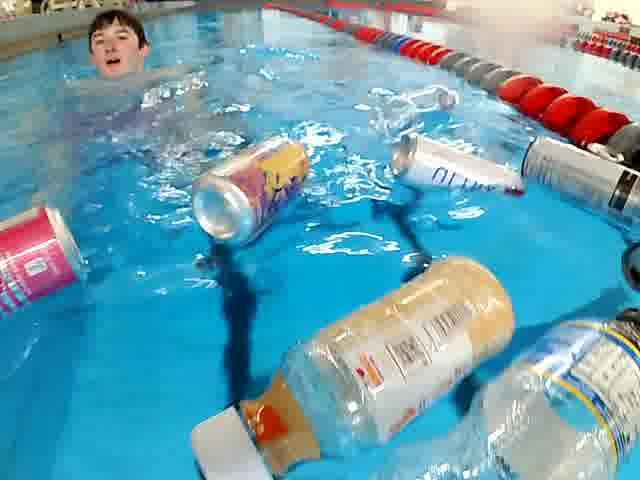Bottle: (190, 248, 528, 480), (393, 285, 639, 480), (0, 199, 105, 333)
Can: (187, 103, 334, 243), (380, 126, 532, 209), (521, 123, 633, 221)
